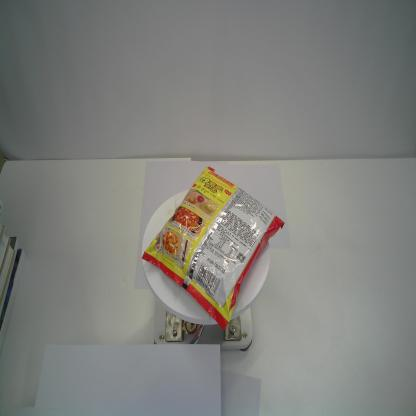Instant Noodles: (139, 164, 285, 328)
